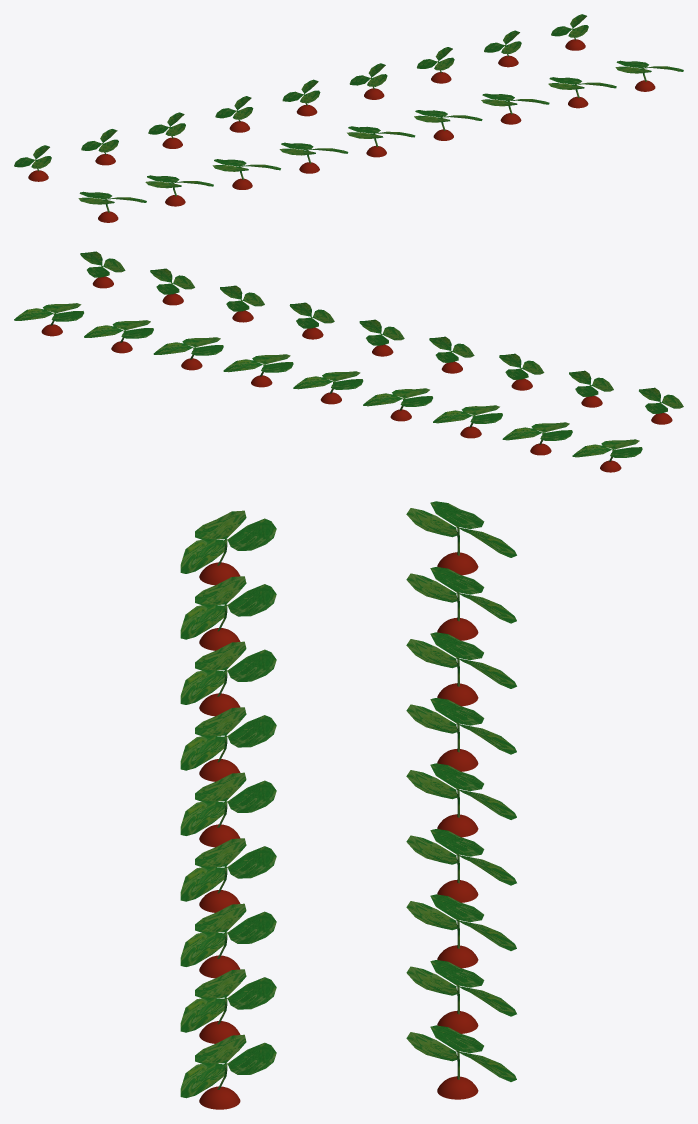
The model's file is Radish.fbx.
3 renders of one model, top to bottom at view 1: azimuth 30°, elevation 25°; view 2: azimuth 150°, elevation 25°; view 3: azimuth 270°, elevation 25°, orthographic. The views are drawn at different scales.
Visible parts, largest first — view 1: Radish; view 2: Radish; view 3: Radish.
Boxes of the visible parts, x1,y1,x2,y2 form: Radish: (14,14,683,222); Radish: (14,251,683,472); Radish: (180,501,516,1109).
Size of the model in its own units: 660 by 23.11 by 159.
